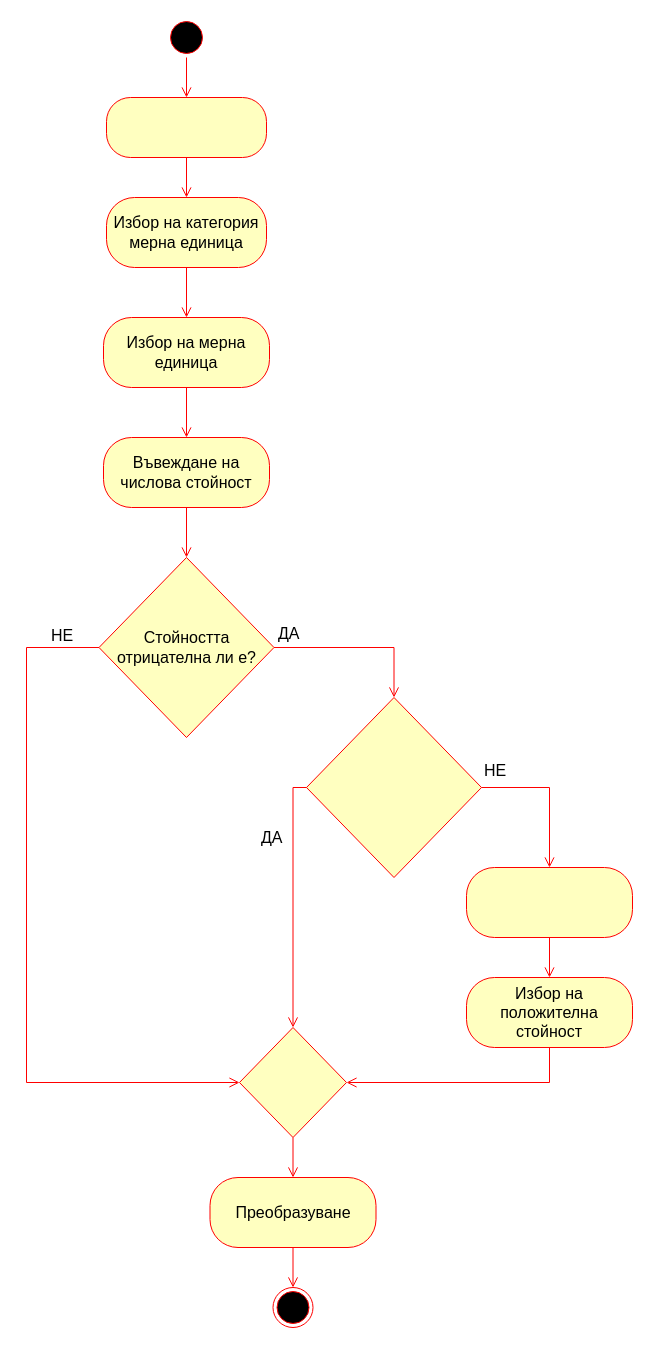
Some shapes in this 650 by 1345 pixel diagram are drawn without their labels. The shapes that lost their labels are listed below. From the top down, each one's box as (x1, y1, x2, y2) in pixels, then its label:
(106, 96, 266, 158): Вписване в профил
(306, 696, 482, 878): Категорията температура ли е?
(466, 866, 632, 938): Избор на друга категория
